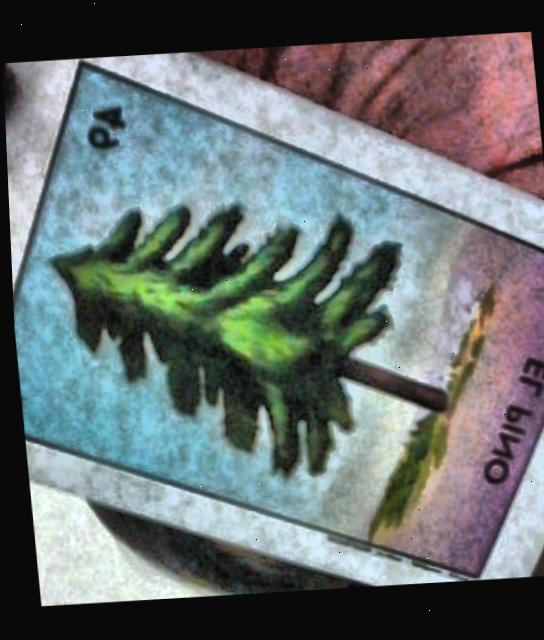El Pino: (10, 71, 544, 579)
